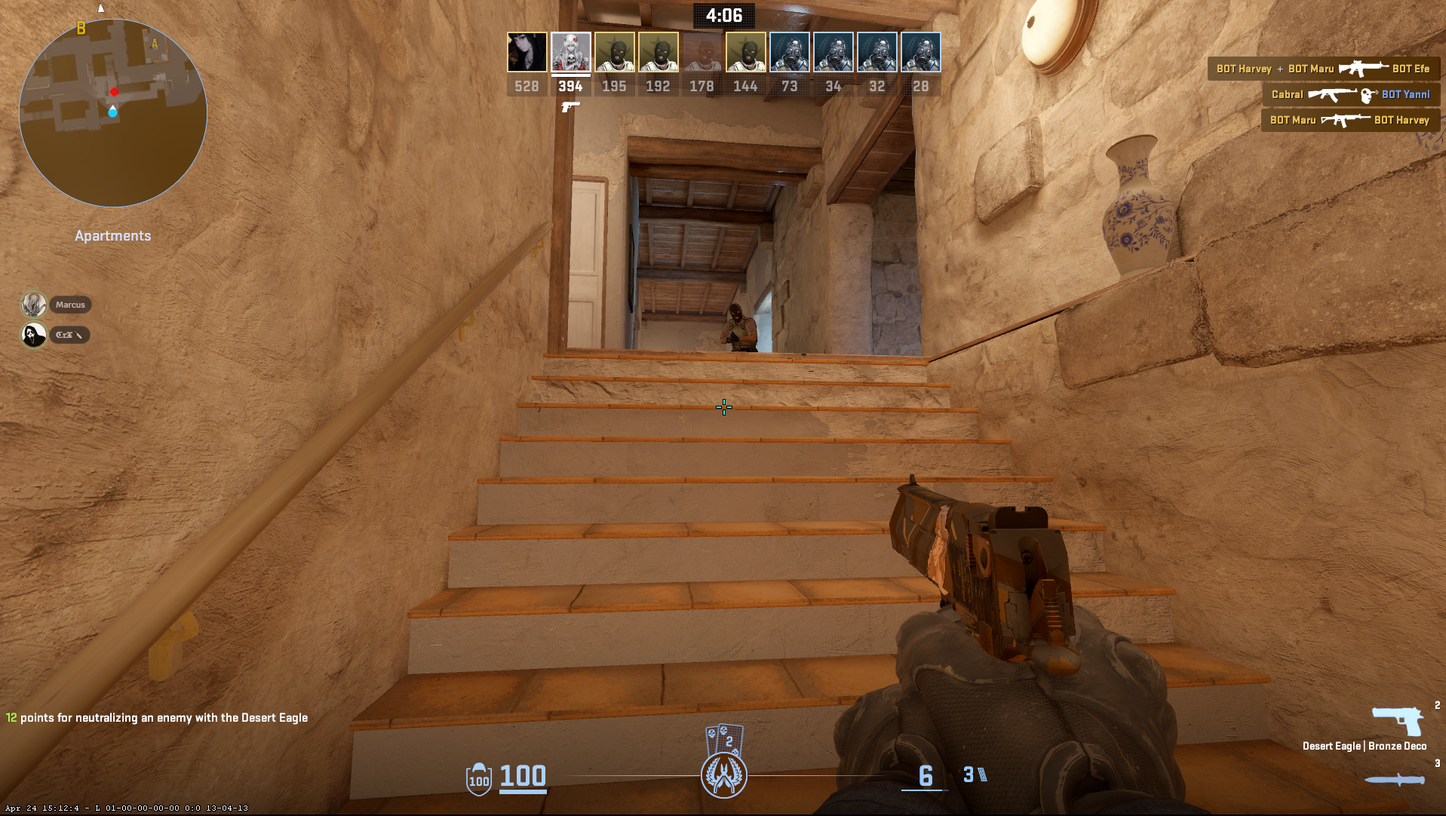T: (719, 304, 765, 351)
